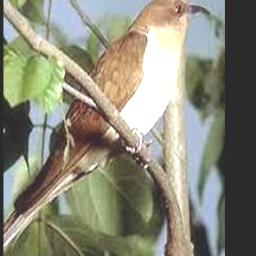Cuckoo: (3, 0, 211, 246)
